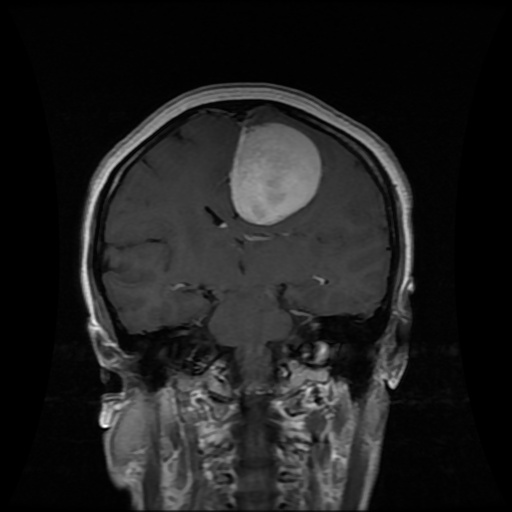meningioma: (231, 123, 321, 225)
